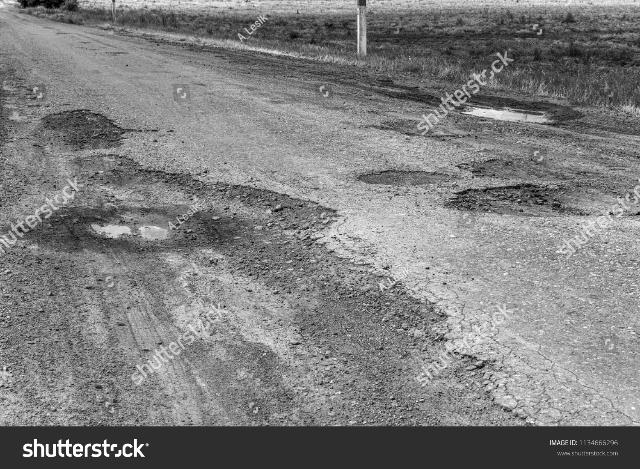Pothole: (4, 172, 248, 256), (444, 171, 640, 229), (409, 84, 593, 140), (334, 154, 458, 190), (44, 102, 128, 148)
